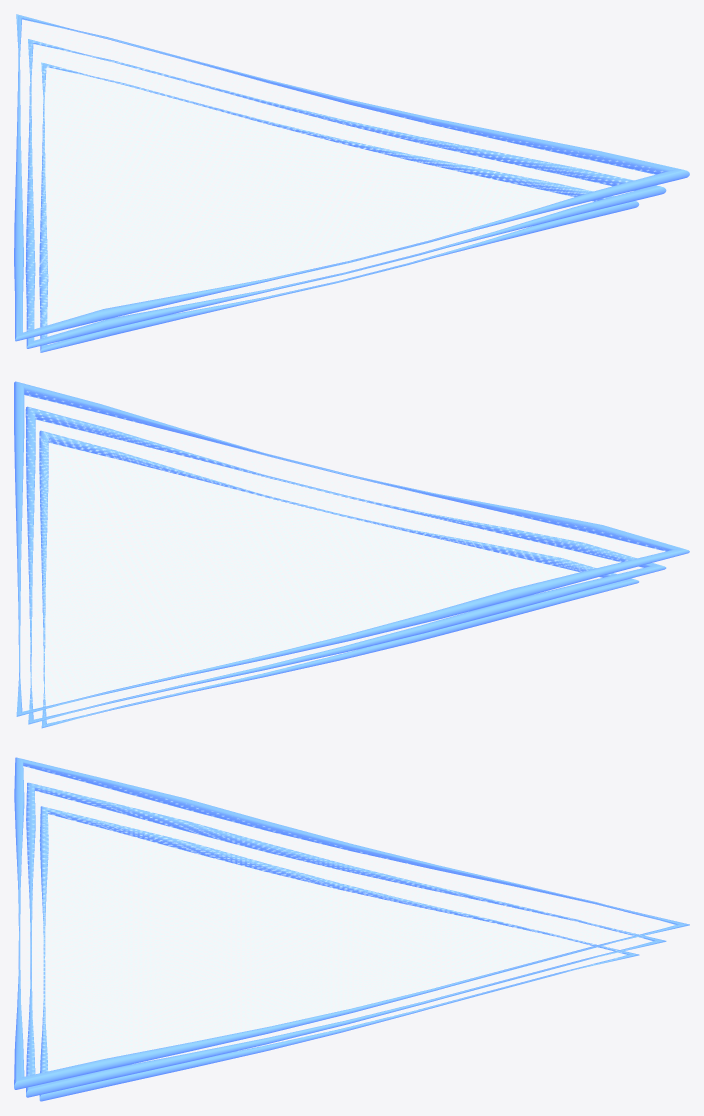
File: tri-portal.glb
3 views of the same model, one above another, from view 1: azimuth 30°, elevation 25°; view 2: azimuth 150°, elevation 25°; view 3: azimuth 270°, elevation 25° (orthographic).
Parts seen in each view (by area): view 1: Portal; view 2: Portal; view 3: Portal.
Part boxes in pixels (<box>): Portal: <box>14,14,689,352</box>; Portal: <box>14,381,689,728</box>; Portal: <box>14,757,689,1101</box>.
Size of the model in its own units: 3.45 by 0.2246 by 2.97.
2 materials, 1 textured.
